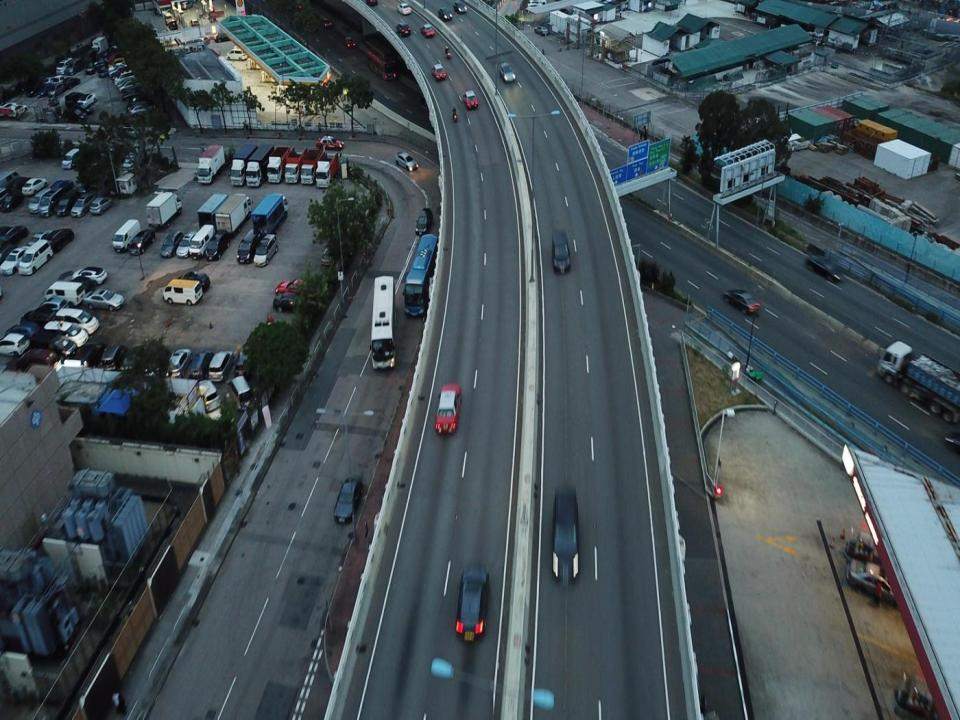bus: (402, 233, 439, 319), (369, 275, 397, 370), (365, 38, 398, 82)
car: (548, 485, 582, 586), (453, 566, 492, 644), (848, 566, 901, 606), (332, 476, 364, 526), (435, 384, 461, 436), (722, 285, 764, 317), (549, 229, 573, 277), (805, 255, 846, 283), (34, 328, 74, 355), (46, 320, 88, 344), (187, 348, 213, 383), (58, 307, 96, 330), (167, 348, 191, 384), (208, 349, 236, 379), (119, 340, 139, 379), (45, 227, 76, 252), (129, 228, 156, 256), (204, 231, 230, 260), (86, 288, 120, 310), (157, 230, 182, 258), (176, 231, 198, 260), (276, 278, 311, 296), (9, 322, 40, 342), (24, 306, 56, 325), (273, 292, 303, 312), (1, 250, 26, 274), (68, 193, 92, 217), (102, 341, 119, 374), (258, 237, 278, 265), (395, 150, 420, 172), (69, 266, 109, 279), (0, 333, 27, 352), (180, 271, 208, 289), (22, 175, 47, 195), (60, 147, 80, 172), (416, 207, 433, 235), (1, 189, 23, 210), (498, 60, 516, 85), (317, 136, 345, 152), (3, 226, 25, 246), (91, 194, 113, 214), (241, 233, 255, 264), (37, 194, 55, 218), (38, 300, 65, 315), (462, 88, 480, 110), (51, 178, 73, 196), (28, 190, 43, 216), (53, 195, 70, 216), (430, 62, 448, 81), (228, 47, 248, 61), (395, 22, 412, 38), (420, 22, 436, 38), (437, 6, 454, 20), (28, 232, 46, 245), (533, 23, 550, 36), (396, 3, 412, 16), (454, 1, 468, 15), (342, 36, 355, 48), (320, 18, 332, 30)
truck: (875, 339, 960, 421), (145, 188, 184, 230), (250, 194, 289, 236), (216, 192, 252, 234), (244, 140, 275, 184), (196, 142, 226, 184), (196, 191, 230, 228), (230, 142, 258, 185), (263, 144, 290, 184), (42, 278, 83, 302), (315, 151, 338, 190), (283, 146, 305, 184), (302, 146, 322, 185)
van: (160, 279, 201, 303), (228, 377, 255, 411), (112, 219, 139, 252), (189, 224, 215, 258)
